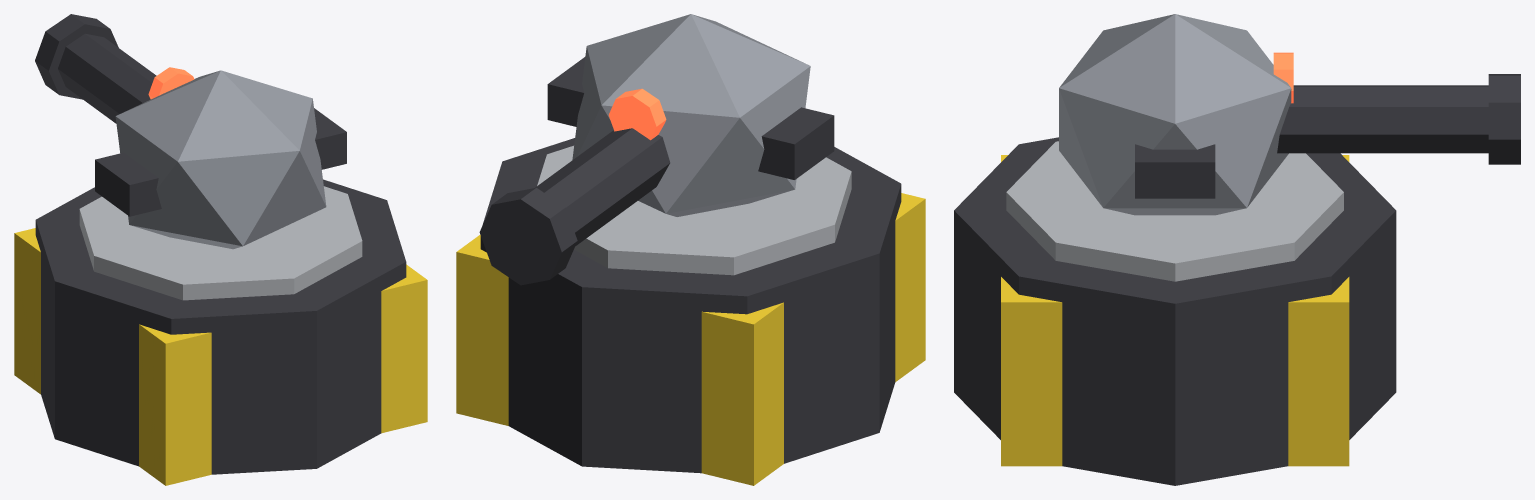
File: turret.glb
The picture shows the model from 3 angles, left to right: view 1: azimuth 30°, elevation 25°; view 2: azimuth 150°, elevation 25°; view 3: azimuth 270°, elevation 25°; orthographic projection. The views are drawn at different scales.
Parts seen in each view (by area): view 1: TurretBase, TurretHead; view 2: TurretBase, TurretHead; view 3: TurretBase, TurretHead.
Part boxes in pixels (x1,y1,x2,y2): TurretBase: [14, 179, 427, 485]; TurretHead: [35, 14, 346, 249]; TurretBase: [456, 138, 925, 485]; TurretHead: [479, 14, 834, 285]; TurretBase: [954, 137, 1396, 485]; TurretHead: [1059, 14, 1520, 215].
Size of the model in its own units: 1.1 by 1.04 by 1.41.
